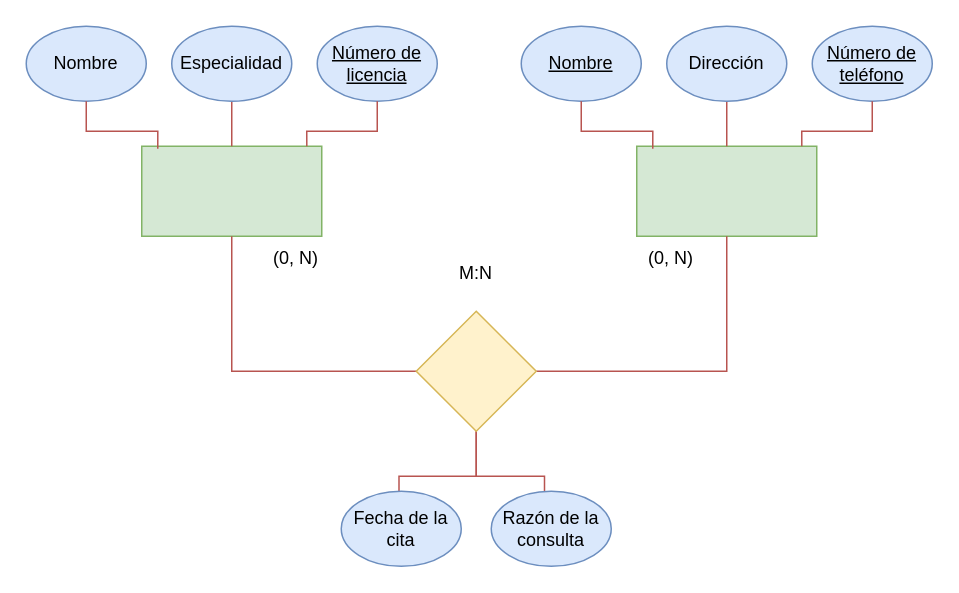
Image size: 959x593. Some labels were removed from this diagram. Each missing label, with the centre of its shape:
Citan: the point at 475,370
Doctores: the point at 231,190
Pacientes: the point at 726,190
